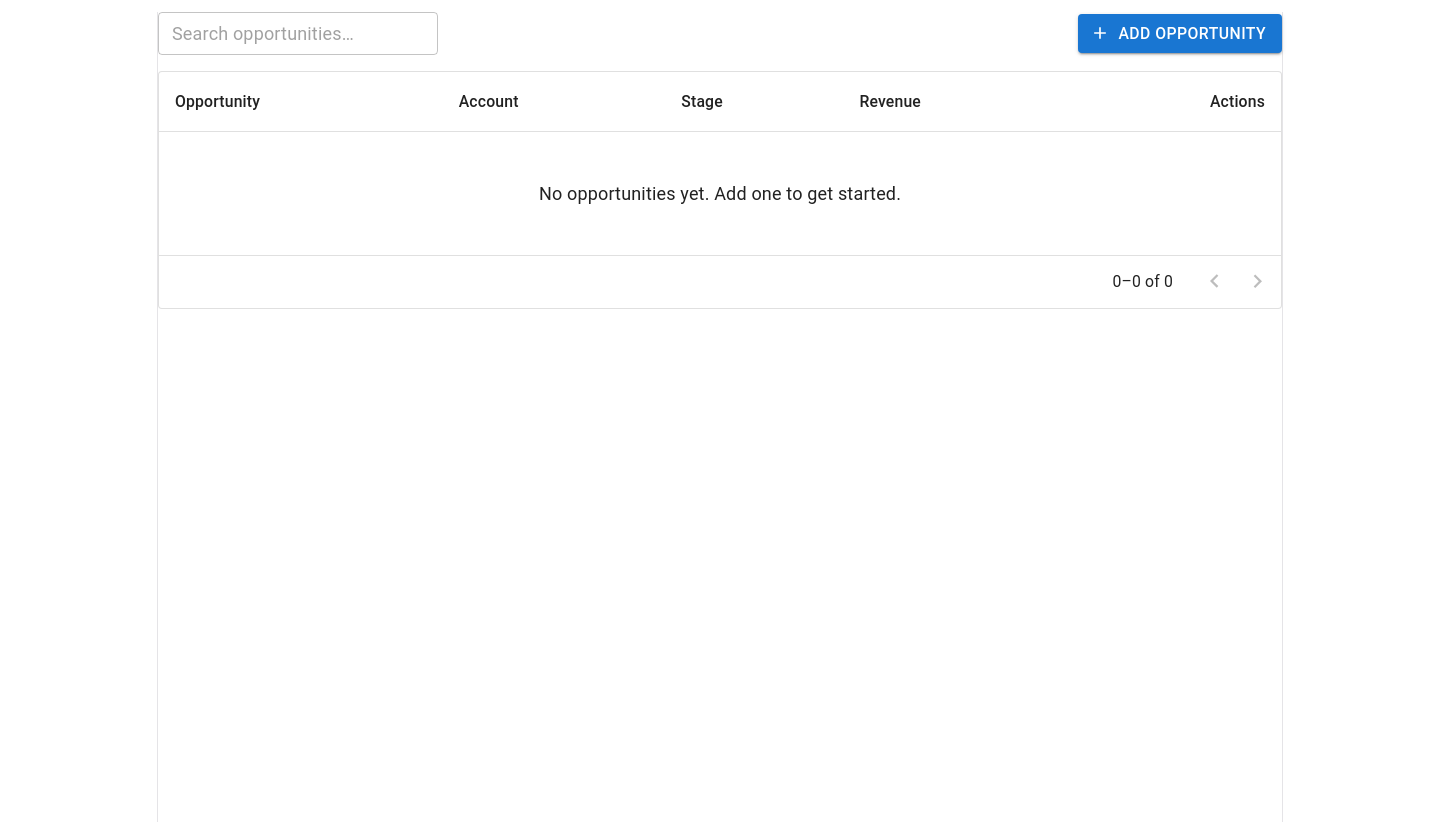
it: OpportunityListPage › shows no-match message when search returns empty
This screenshot has width=1440, height=822.
Type "xyz" into the field with placeholder "Search opportunities…". click: coordinates (298, 33)
box: [158,12,438,55]
Wait 300 ms
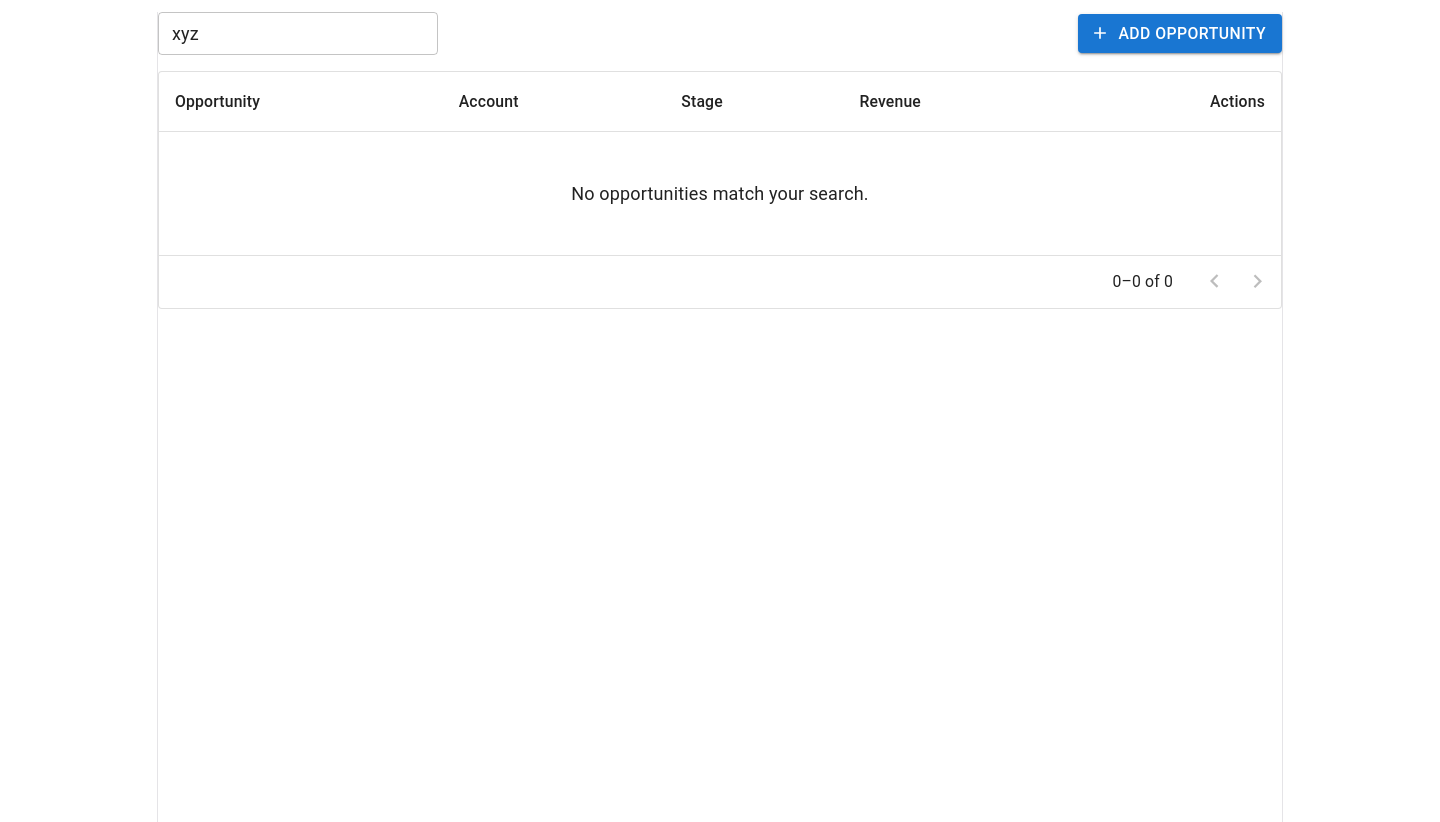
Expected: the text "No opportunities match your search." is shown, [571,183,869,204]
